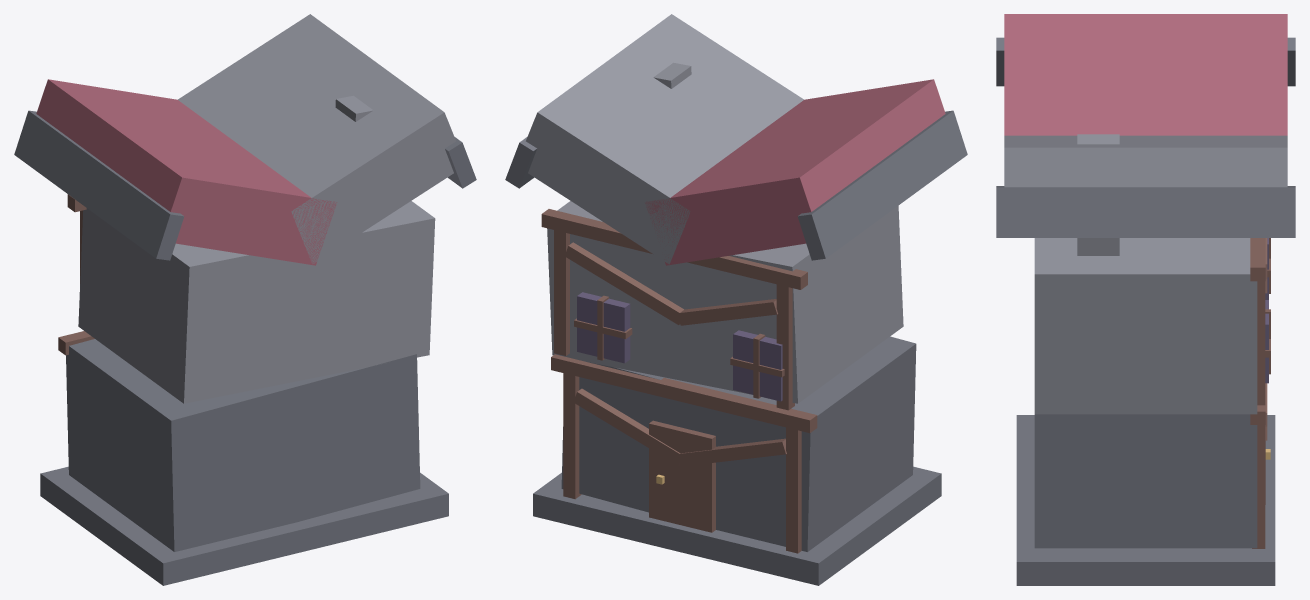
File: crooked_house.glb
3 renders of one model, left to right at view 1: azimuth 30°, elevation 25°; view 2: azimuth 150°, elevation 25°; view 3: azimuth 270°, elevation 25°, orthographic. The views are drawn at different scales.
Visible parts, largest first — view 1: Moonpost Crooked Town House; view 2: Moonpost Crooked Town House; view 3: Moonpost Crooked Town House.
Part boxes in pixels (x1,y1,x2,y2): Moonpost Crooked Town House: [14, 14, 476, 585]; Moonpost Crooked Town House: [505, 14, 967, 585]; Moonpost Crooked Town House: [996, 14, 1295, 585].
Bounding box in the file's own units: 9.65 × 11.81 × 7.4.
